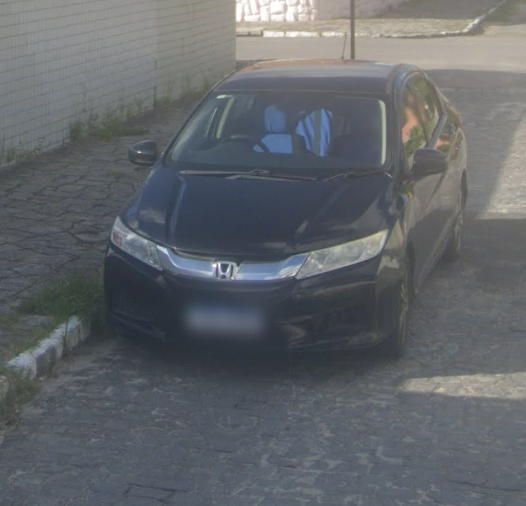car: (102, 34, 473, 358)
